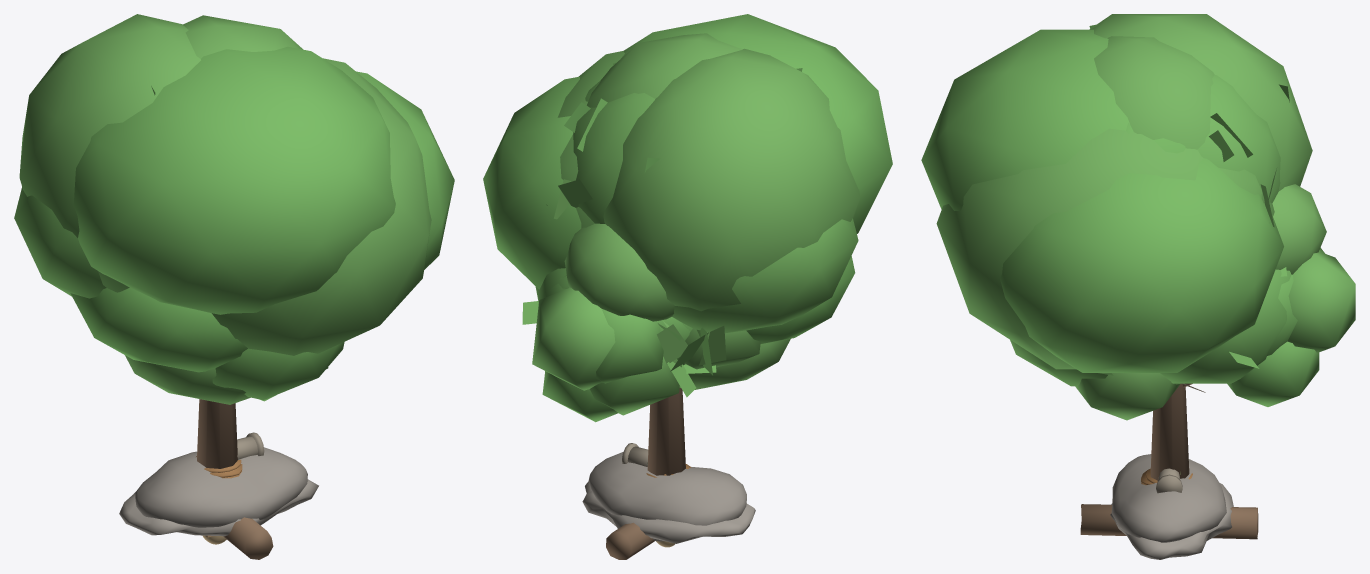
The model's file is nature.glb.
The picture shows the model from 3 angles, left to right: view 1: azimuth 30°, elevation 25°; view 2: azimuth 150°, elevation 25°; view 3: azimuth 270°, elevation 25°; orthographic projection. The views are drawn at different scales.
Visible parts, largest first — view 1: TreeOak2_Foliage, TreeOak4_Foliage, Rock3, TreeOak1_Foliage, TreeOak3_Foliage, TreeOak4_Trunk, Rock1, Log1, Pipe1; view 2: TreeOak4_Foliage, TreeOak2_Foliage, TreeOak1_Foliage, TreeOak3_Foliage, Rock3, Rock1, TreeOak4_Trunk, Log1; view 3: TreeOak2_Foliage, TreeOak4_Foliage, TreeOak1_Foliage, Rock3, TreeOak3_Foliage, TreeOak4_Trunk, Log1, Rock1, Pipe1.
Boxes of the visible parts, x1,y1,x2,y2 form: TreeOak2_Foliage: (70, 46, 454, 372); TreeOak4_Foliage: (19, 14, 431, 355); Rock3: (135, 447, 307, 527); TreeOak1_Foliage: (14, 187, 344, 400); TreeOak3_Foliage: (125, 355, 328, 404); TreeOak4_Trunk: (197, 399, 237, 468); Rock1: (119, 479, 318, 536); Log1: (223, 517, 273, 559); Pipe1: (237, 432, 264, 459); TreeOak4_Foliage: (532, 33, 860, 415); TreeOak2_Foliage: (483, 14, 892, 375); TreeOak1_Foliage: (522, 93, 858, 422); TreeOak3_Foliage: (564, 223, 790, 389); Rock3: (588, 452, 746, 525); Rock1: (582, 481, 755, 543); TreeOak4_Trunk: (647, 388, 685, 475); Log1: (606, 522, 654, 559); TreeOak2_Foliage: (921, 24, 1289, 372); TreeOak4_Foliage: (936, 14, 1355, 369); TreeOak1_Foliage: (1010, 75, 1324, 406); Rock3: (1111, 454, 1226, 542); TreeOak3_Foliage: (1075, 184, 1326, 420); TreeOak4_Trunk: (1150, 384, 1189, 480); Log1: (1080, 504, 1258, 539); Rock1: (1110, 483, 1233, 559); Pipe1: (1156, 468, 1182, 493).
Bounding box in the file's own units: 6.13 × 8.35 × 6.5.
